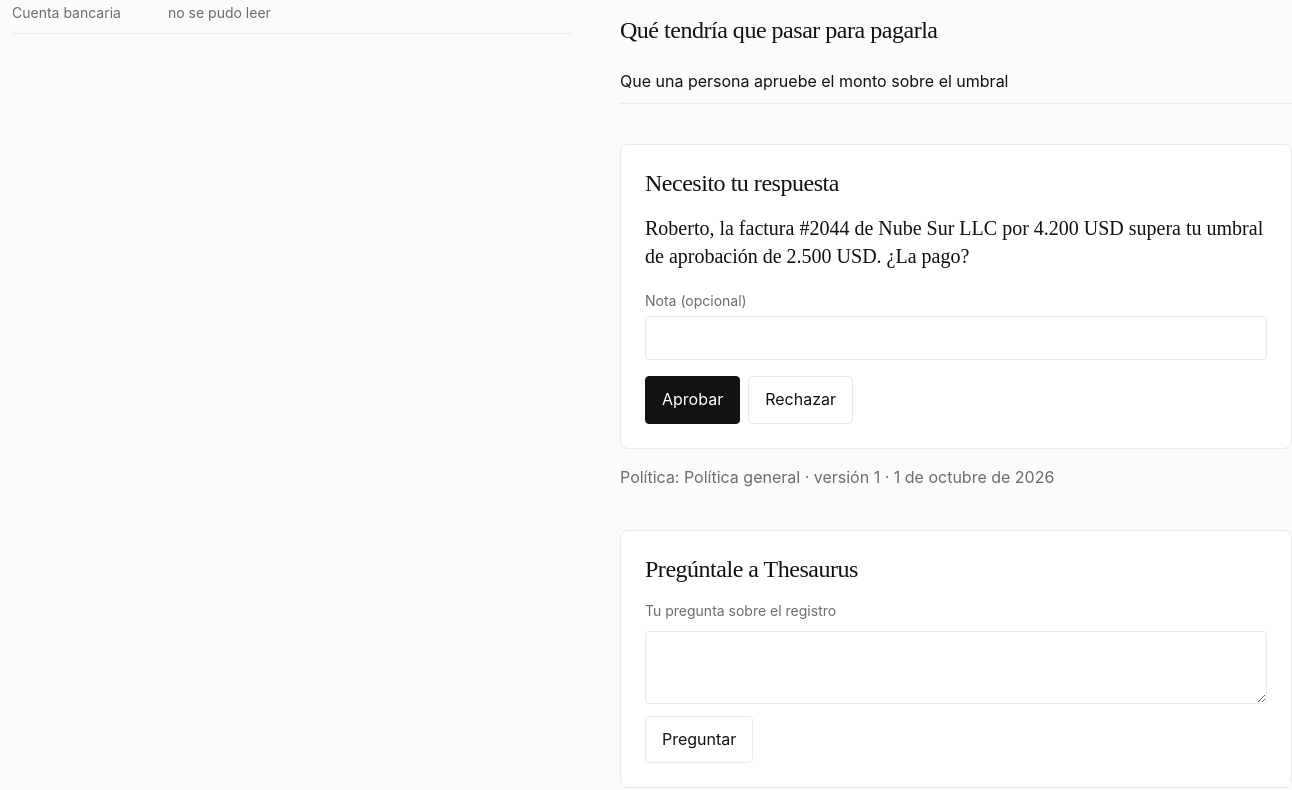
Test: a 503 busy asks to retry and keeps the buttons
The image size is (1292, 790).
(page scrolled)
Click the button "Aprobar": (693, 400) 645,376 -> 740,424
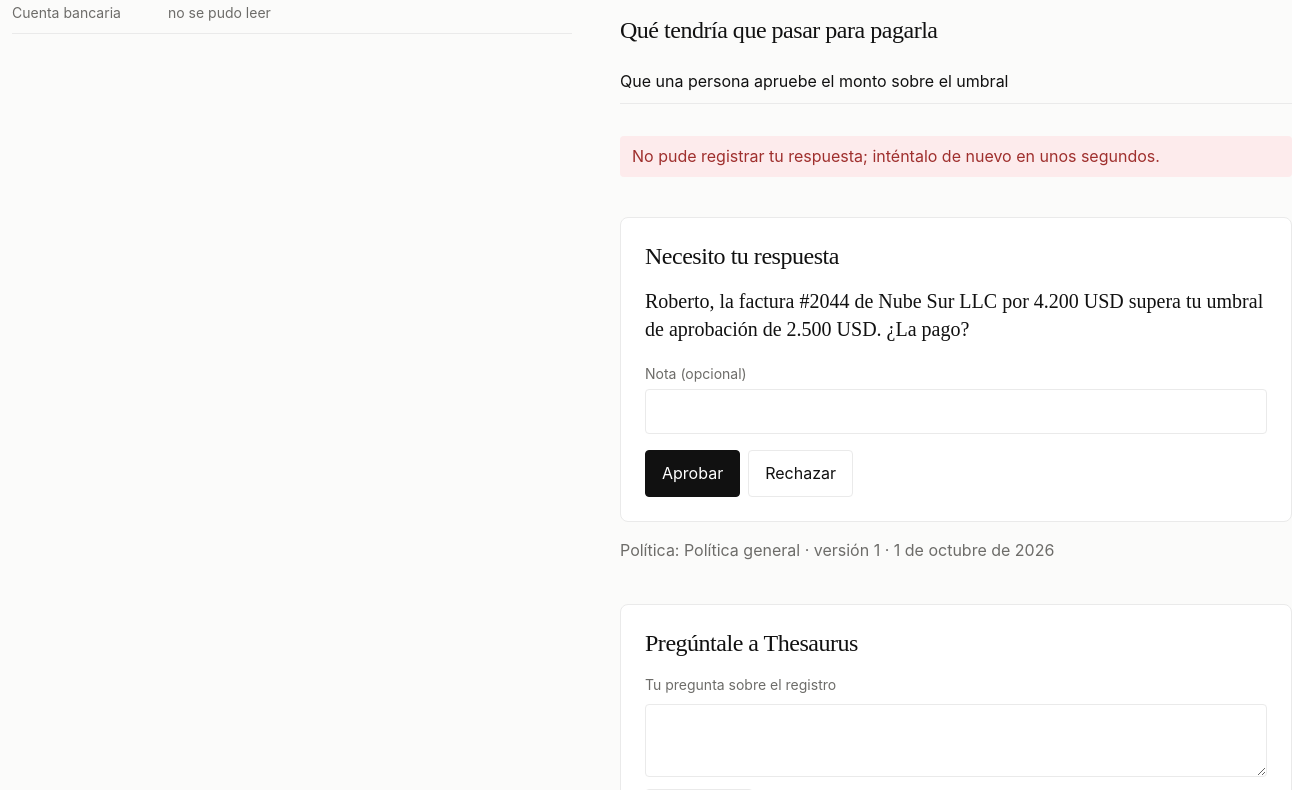
Expected: the button "Aprobar" is enabled, 645,450 -> 740,498
Result: the text "No pude registrar tu respuesta; inténtalo de nuevo en unos segundos." is shown at 620,136 -> 1291,177
